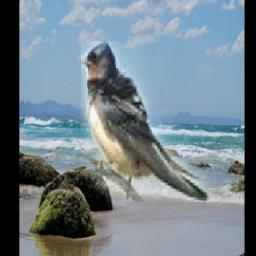Swallow: (81, 41, 239, 202)
